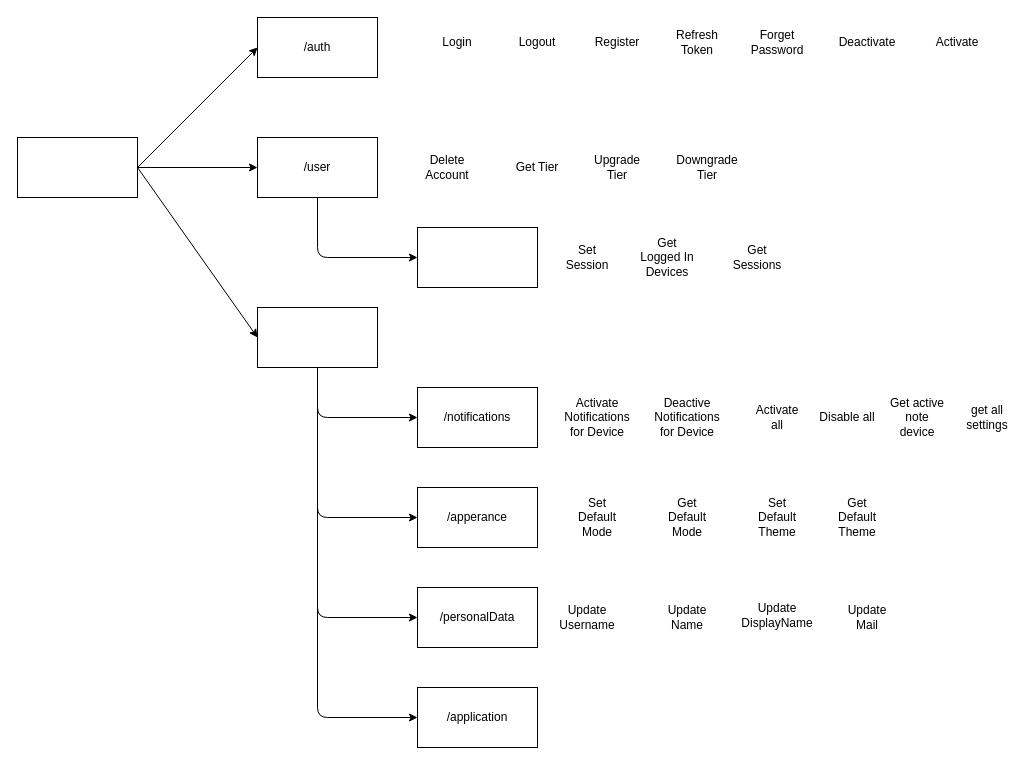
Some shapes in this 1035 by 765 pixel diagram are drawn without their labels. The shapes that lost their labels are listed below. From the top down, each one's centre as x and y in pixels, then its label:
At point (77, 167): "/admin".
At point (477, 257): "/sessions".
At point (317, 337): "/settings".
